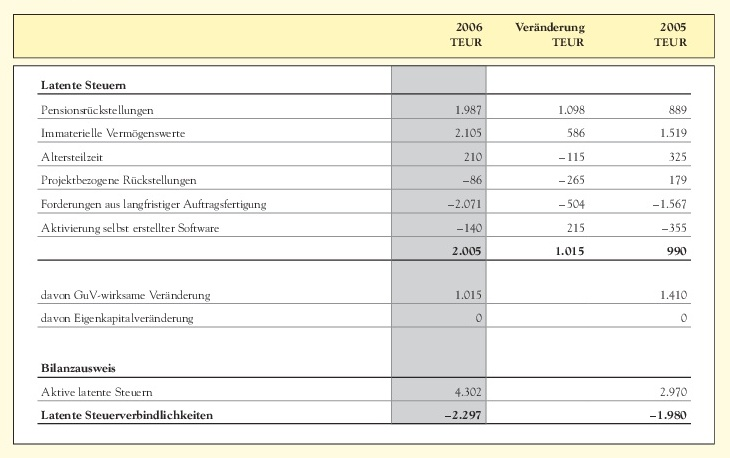table: (0, 0, 730, 458)
